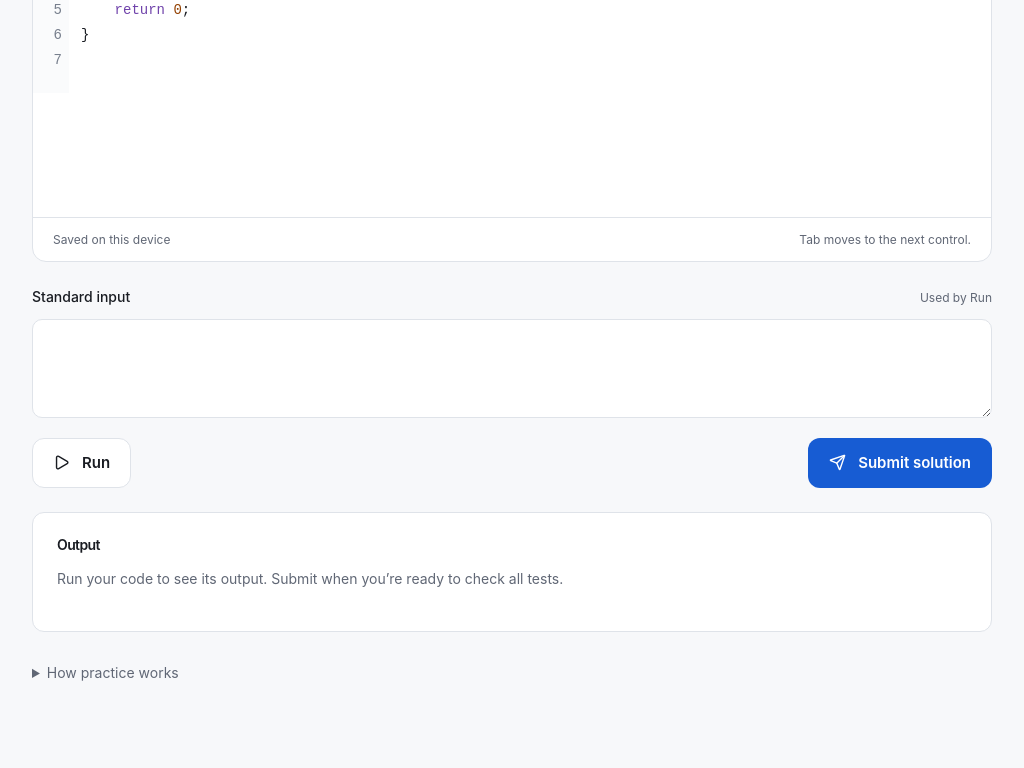
does not mark completion when Run succeeds, and reports a compiler error from Submit
(page scrolled)
Click the button "Run".
click(82, 463)  # box x1=32 y1=438 x2=131 y2=488
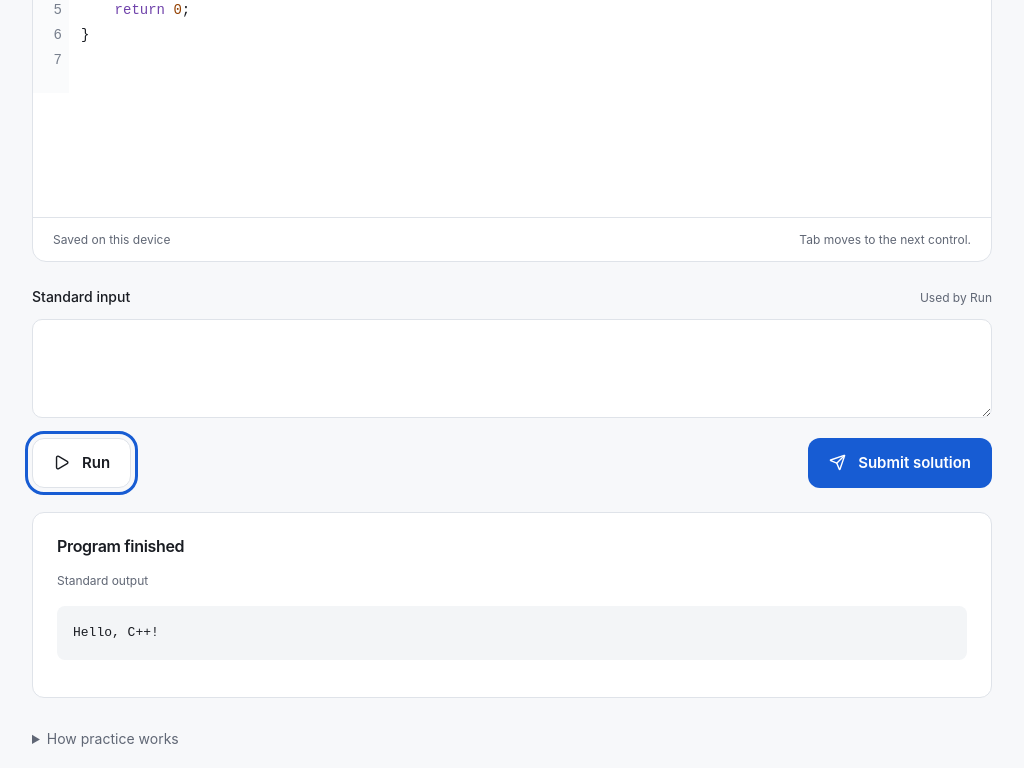
expect the heading "Program finished" is shown: met, box x1=57 y1=537 x2=184 y2=555
Click the button "Submit solution".
click(900, 463)  # box x1=808 y1=438 x2=992 y2=488
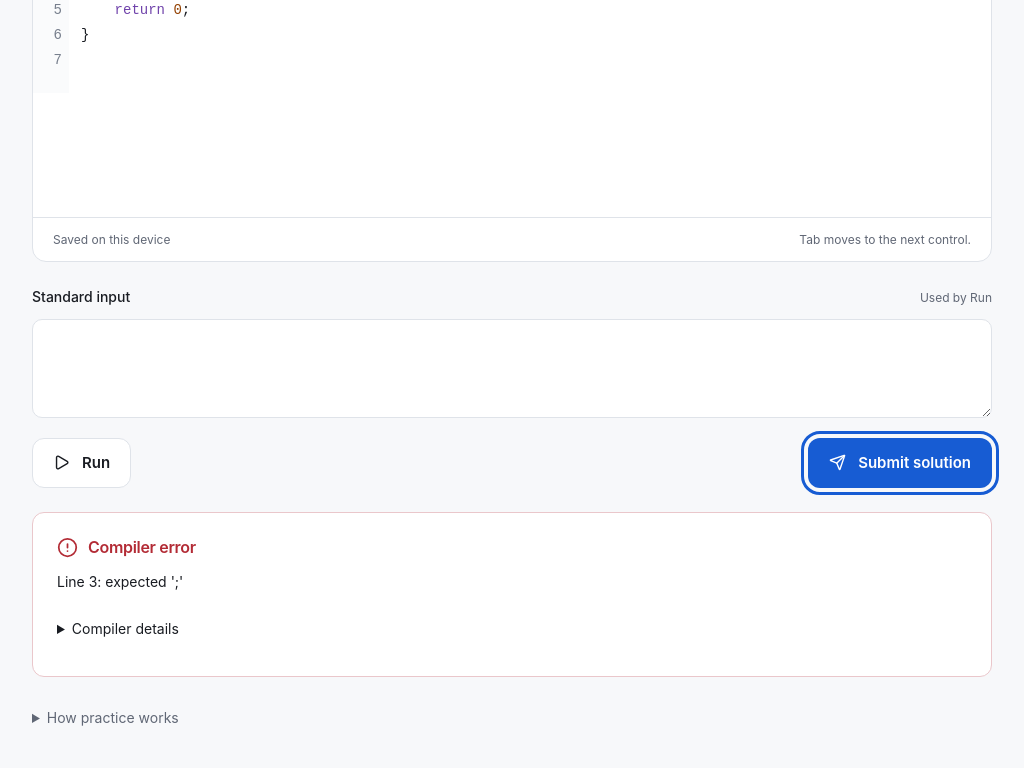
expect the text "Line 3: expected ';'" is shown: met, box x1=57 y1=573 x2=183 y2=590
